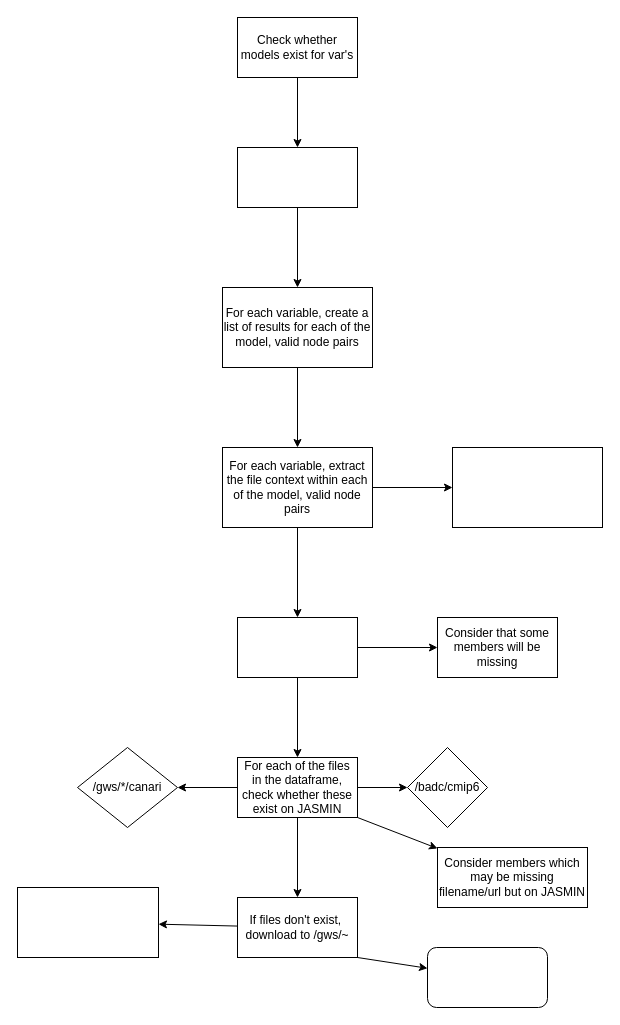
The diagram is 620 pixels wide and 1025 high, and some of its shapes have lost their labels. The centre of each missing label's shape, as x and y in pixels:
Append path to df: (487,977)
Create a dataframe containing all of the variable, filename, url combinations: (297,647)
For each variable, find valid nodes (w/most results): (297,177)
There will be errors when retrieving file context, some members will be missed: (527,487)
Within dataframe have all filenames/url/paths for all variable members: (87,922)
